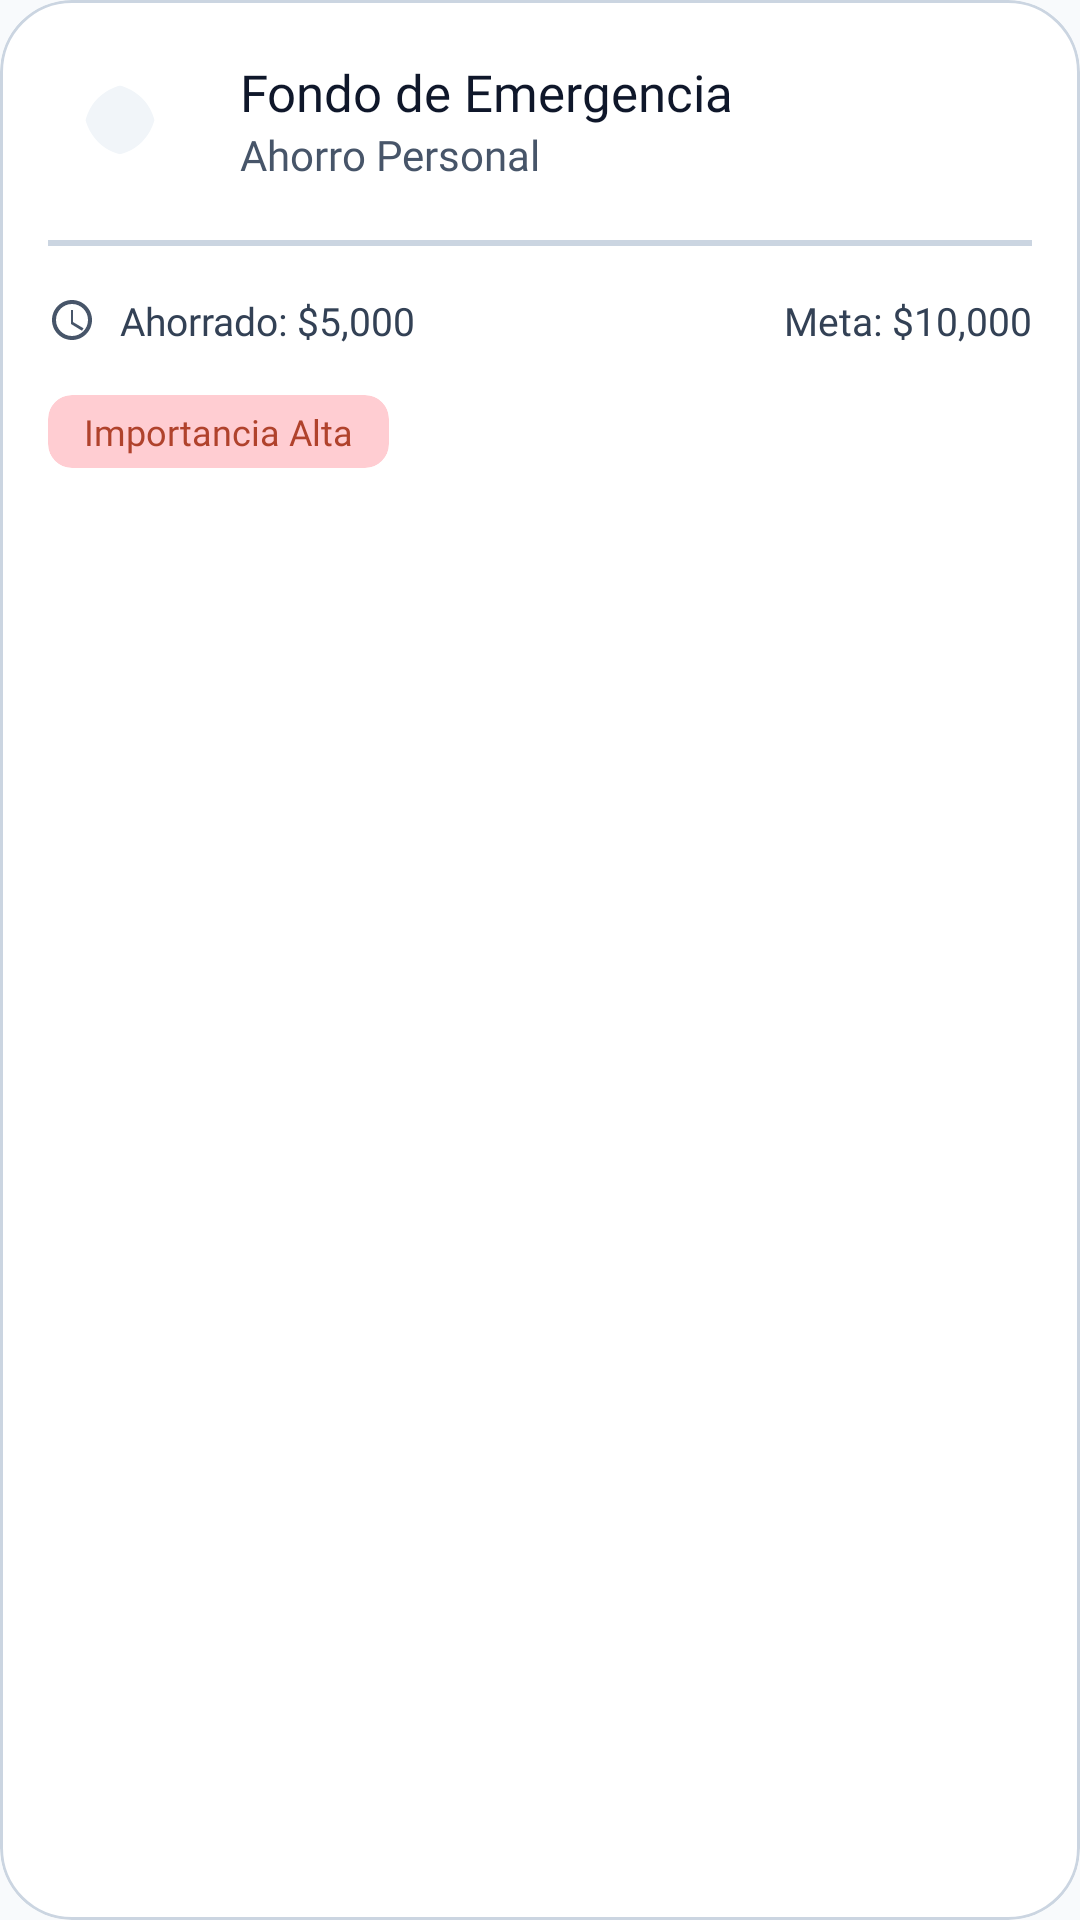

Locate icon controls on the screen. Image size 1080w x 1920h, boxes as (x1=x1, y1=y1, x2=x2, y2=y2).
clock: (x1=52, y1=300, x2=92, y2=340)
